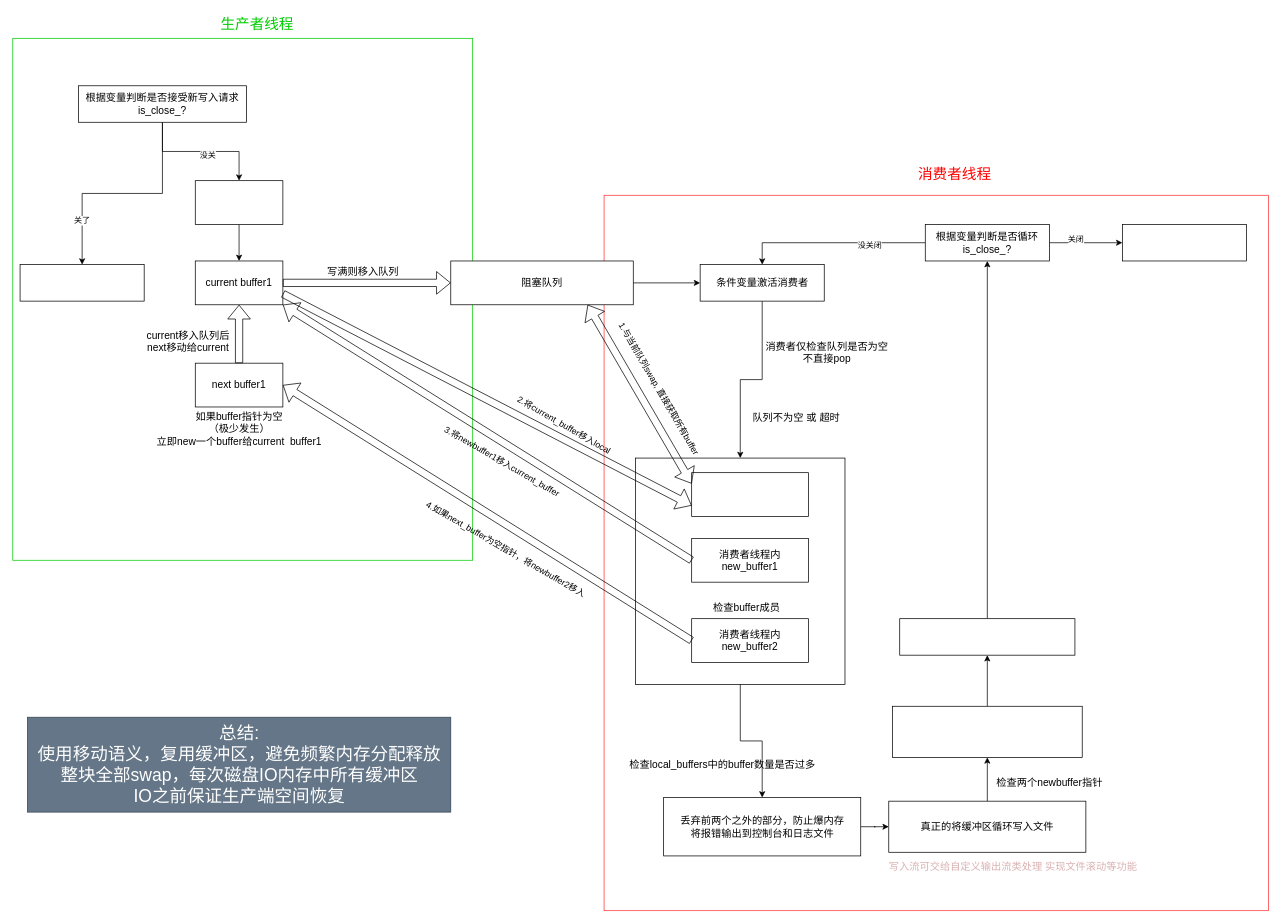
The diagram is 1281 pixels wide and 923 high, and some of its shapes have lost their labels. The shapes that lost their labels are listed below. From the top down, each one's centre as x and y in pixels, then its label:
At [239,202]: "生产端取锁写入格式化字符串".
At [1184,242]: "flush".
At [81,282]: "直接return拒绝".
At [749,494]: "消费者线程内local_buffers数组".
At [987,636]: "clear掉local_buffers，flush输出流".
At [987,731]: "指针为空，说明已经移动了 这时应当取保留的buffer移动给newbuffer".
